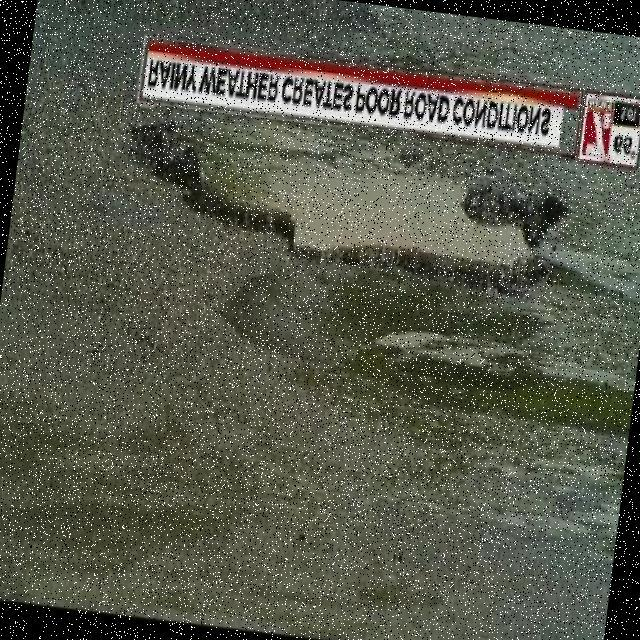Pothole: (129, 119, 567, 297)
